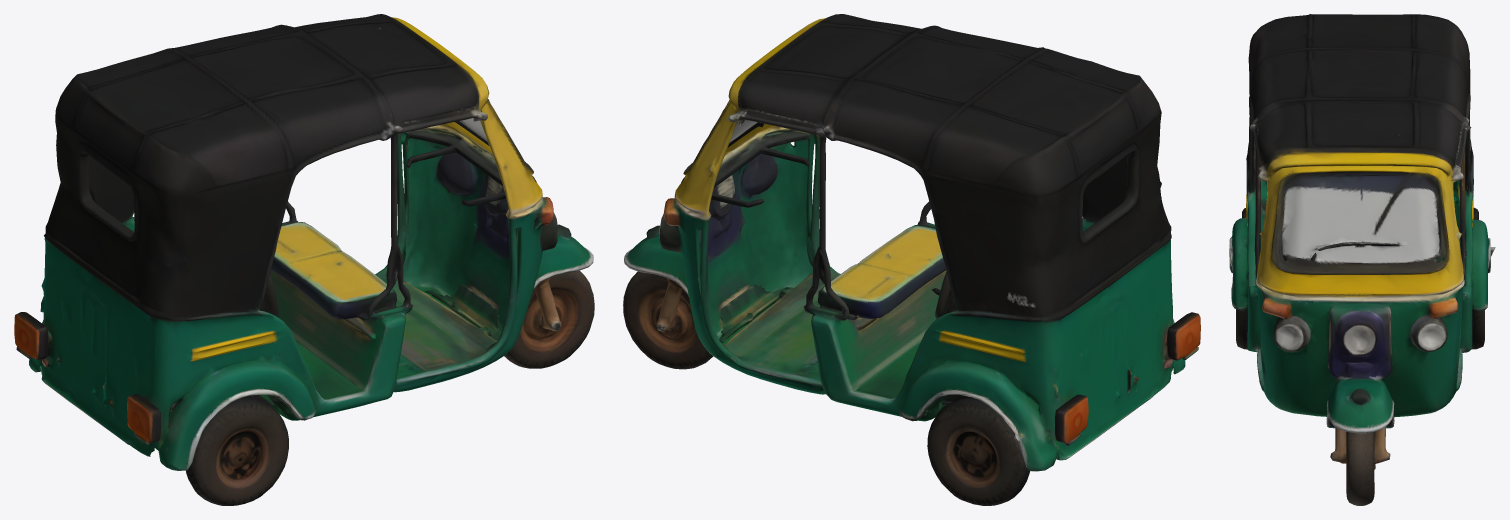
File: keke.glb
3 renders of one model, left to right at view 1: azimuth 30°, elevation 25°; view 2: azimuth 150°, elevation 25°; view 3: azimuth 270°, elevation 25°, orthographic. The views are drawn at different scales.
Parts seen in each view (by area): view 1: tripo_node_df0c3020-e3f7-4789-acfb-e346152415ac; view 2: tripo_node_df0c3020-e3f7-4789-acfb-e346152415ac; view 3: tripo_node_df0c3020-e3f7-4789-acfb-e346152415ac.
Boxes of the visible parts, x1,y1,x2,y2 form: tripo_node_df0c3020-e3f7-4789-acfb-e346152415ac: (14,14,594,505); tripo_node_df0c3020-e3f7-4789-acfb-e346152415ac: (623,14,1200,505); tripo_node_df0c3020-e3f7-4789-acfb-e346152415ac: (1229,14,1495,505).
Size of the model in its own units: 2.62 by 1.8 by 1.37.
Materials: 1 (1 with a texture image).
